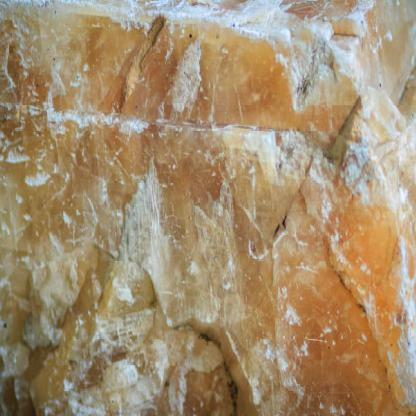Sedimentary_Limestone: (2, 4, 416, 415)
